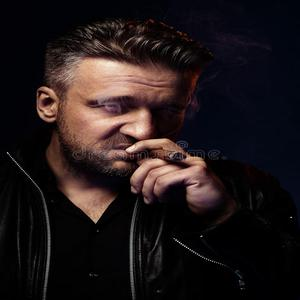cigarette: (148, 146, 188, 163)
